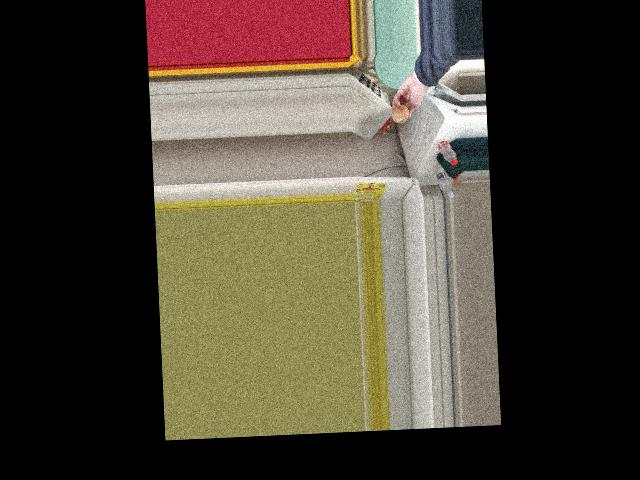sweet_potato: (392, 102, 409, 122)
